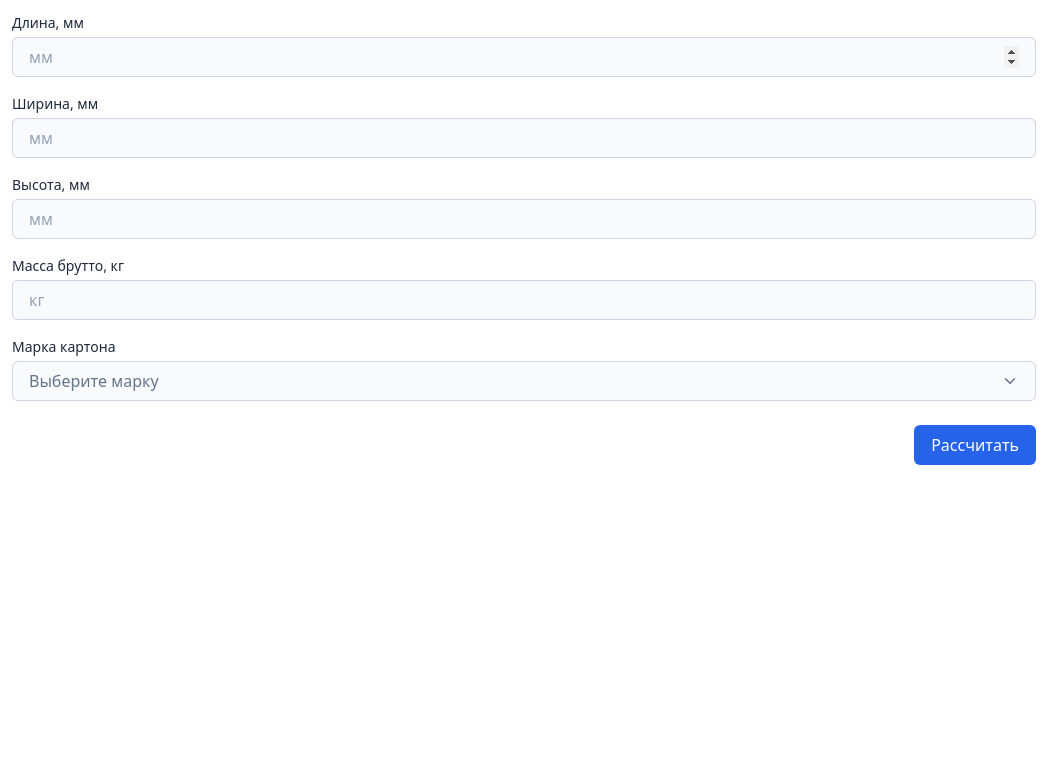
Scenario: BoxInputForm › валидация › показывает ошибку для отрицательного значения
Type "-5" into the number field labelled "Длина, мм". click: (524, 57)
box: [12,37,1036,77]
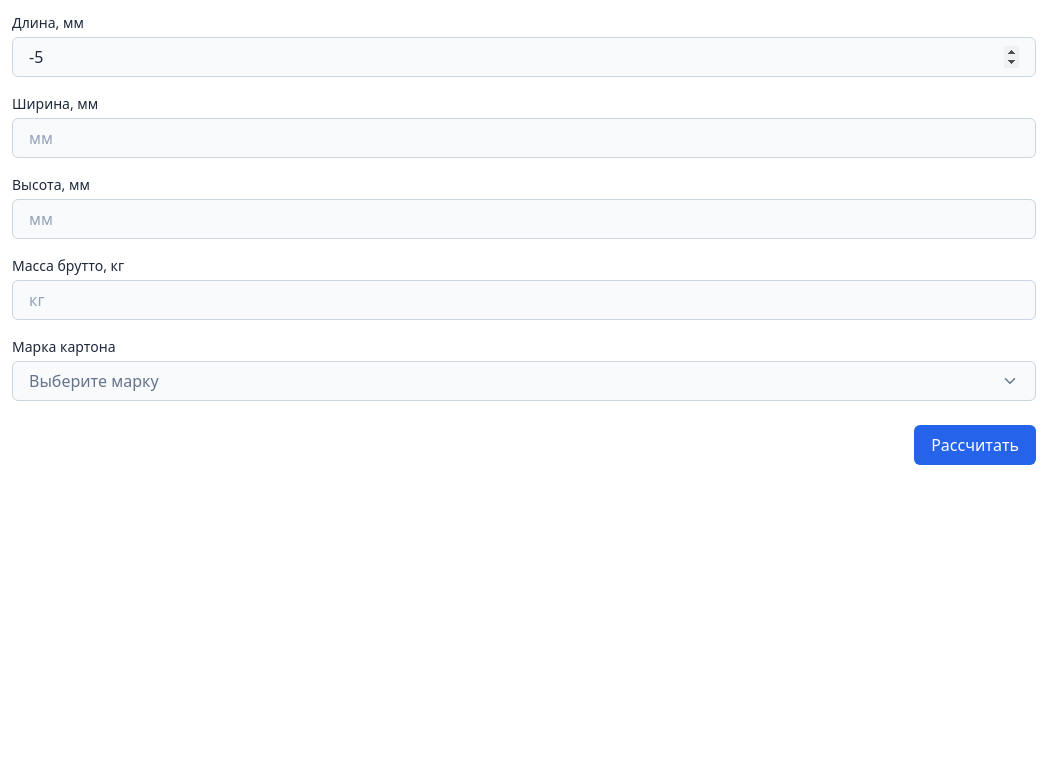
Submit the form with test id "box-input-form", box [12,12,1036,465]
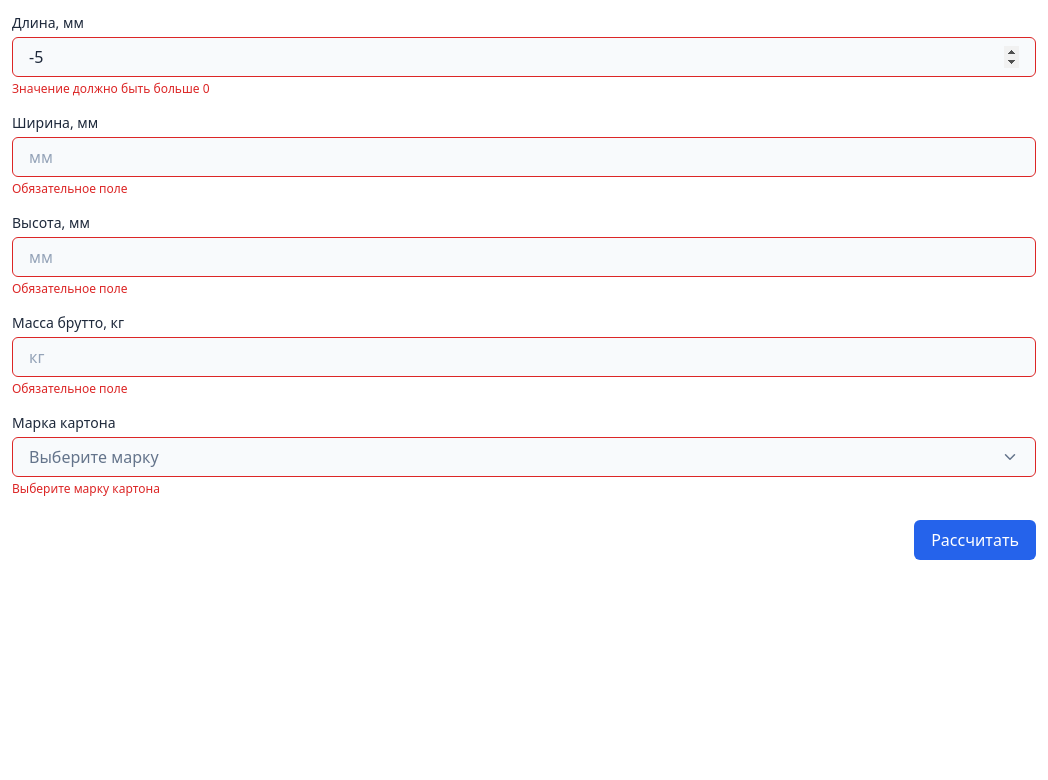
Now the text with test id "input-error" shows "больше 0", box [12,80,210,97]
